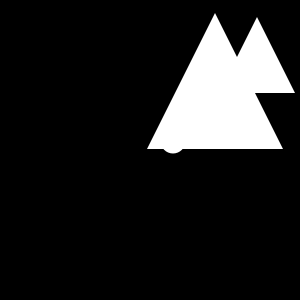rectangle: (160, 128, 186, 153)
triangle: (147, 13, 283, 149), (219, 17, 295, 93)
